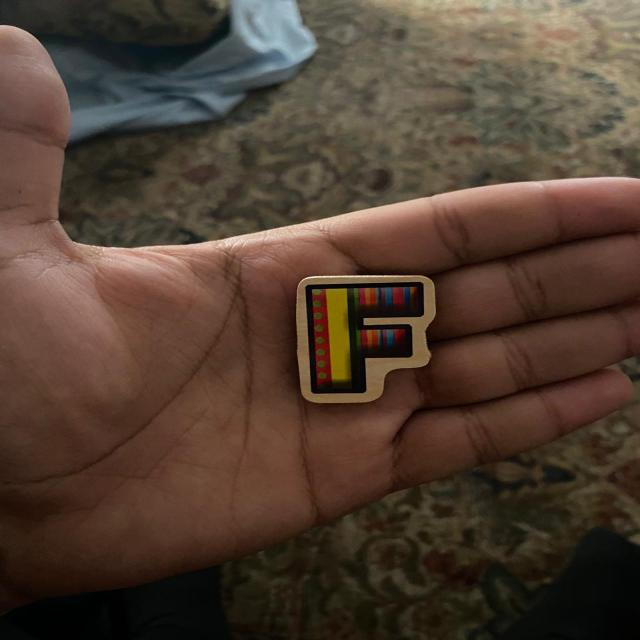F: (297, 275, 435, 403)
